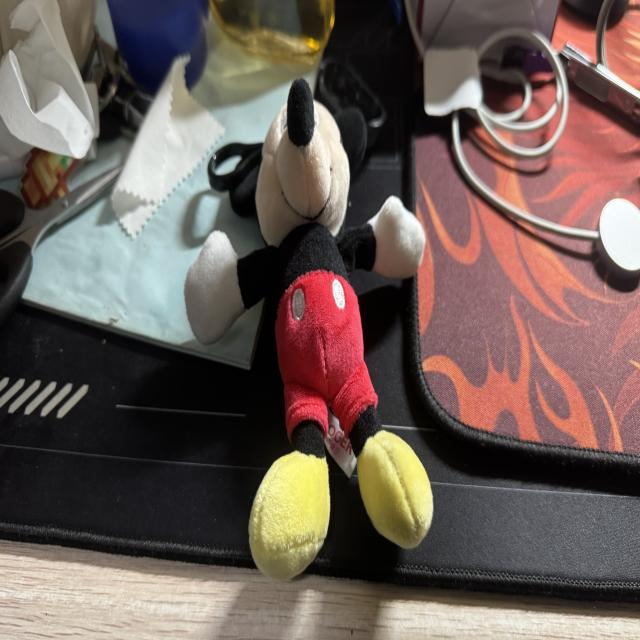mickey: (185, 80, 432, 579)
tissue: (112, 56, 223, 237), (0, 0, 96, 174)
